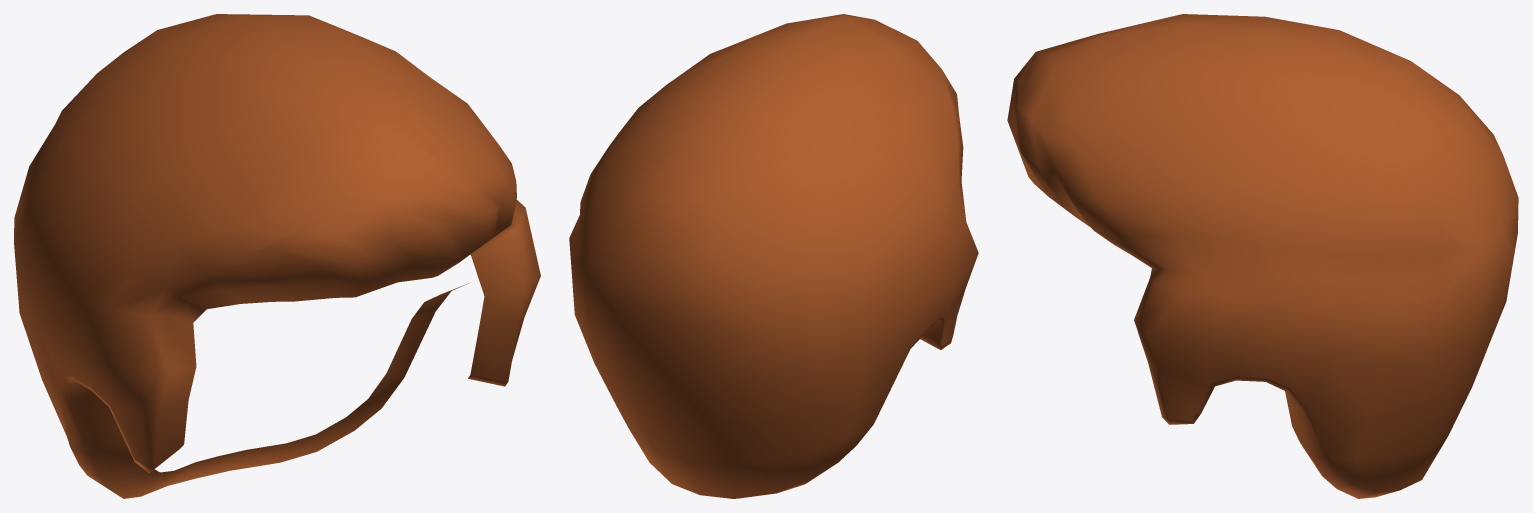
3 renders of one model, left to right at view 1: azimuth 30°, elevation 25°; view 2: azimuth 150°, elevation 25°; view 3: azimuth 270°, elevation 25°, orthographic. The views are drawn at different scales.
Visible parts, largest first — view 1: Wolf3D_Hair.075; view 2: Wolf3D_Hair.075; view 3: Wolf3D_Hair.075.
Part boxes in pixels (x1,y1,x2,y2): Wolf3D_Hair.075: (14, 14, 540, 498); Wolf3D_Hair.075: (569, 14, 978, 498); Wolf3D_Hair.075: (1007, 14, 1518, 498).
Bounding box in the file's own units: 0.1713 × 0.1969 × 0.2032.
Materials: 1 (1 with a texture image).
